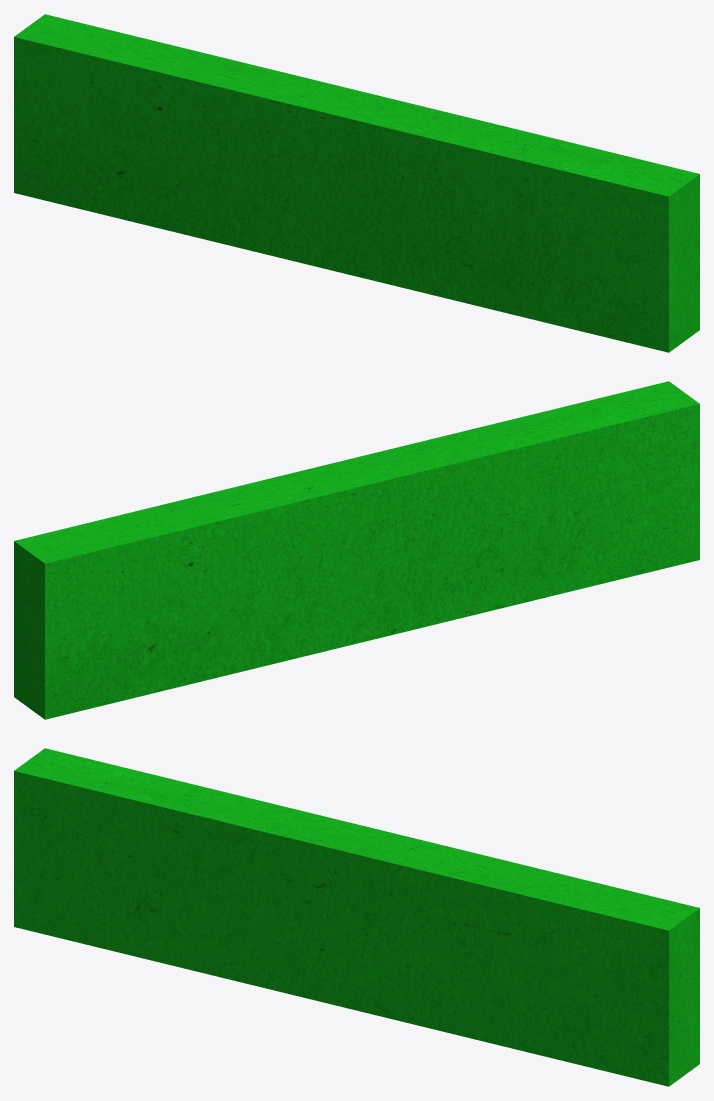
File: TriRightBump.obj
3 renders of one model, top to bottom at view 1: azimuth 90°, elevation 25°; view 2: azimuth 150°, elevation 25°; view 3: azimuth 270°, elevation 25°, orthographic.
Visible parts, largest first — view 1: FlipBumper.002_Cube.012; view 2: FlipBumper.002_Cube.012; view 3: FlipBumper.002_Cube.012.
Part boxes in pixels (x1,y1,x2,y2): FlipBumper.002_Cube.012: (14, 14, 699, 352); FlipBumper.002_Cube.012: (14, 381, 699, 719); FlipBumper.002_Cube.012: (14, 748, 699, 1086).
Bounding box in the file's own units: 0.4702 × 0.1875 × 0.7469.
Materials: 1 (1 with a texture image).
